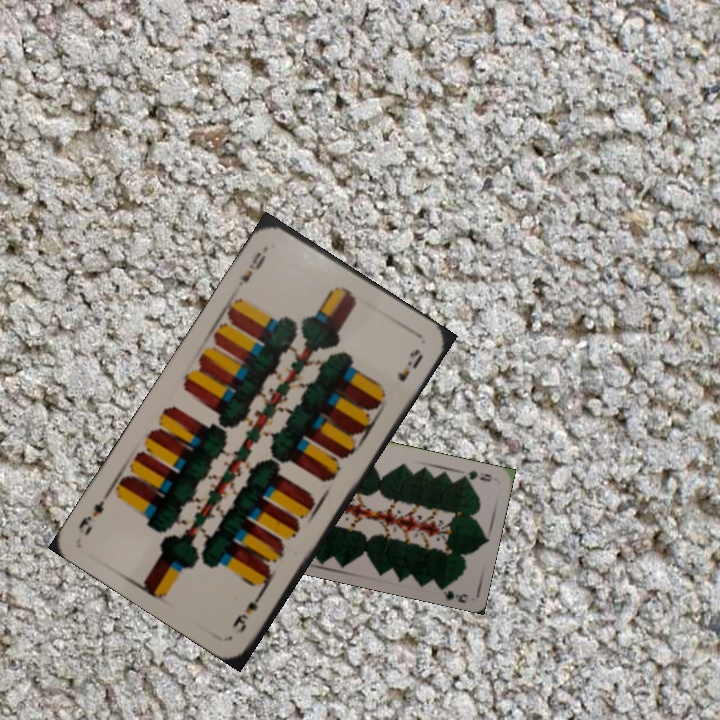E9: (228, 584, 267, 637), (236, 248, 269, 286)
G9: (456, 466, 496, 484)
